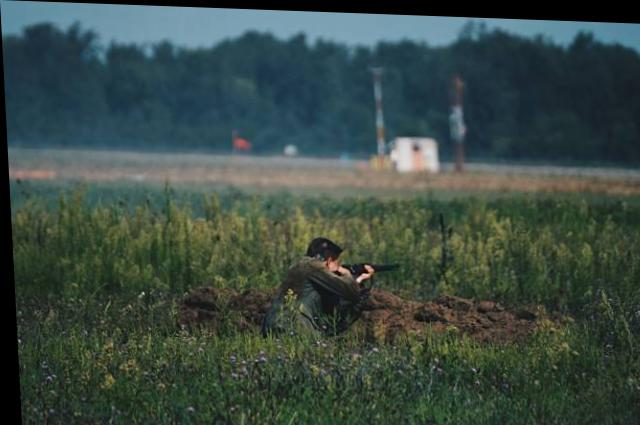other: (290, 238, 371, 330)
